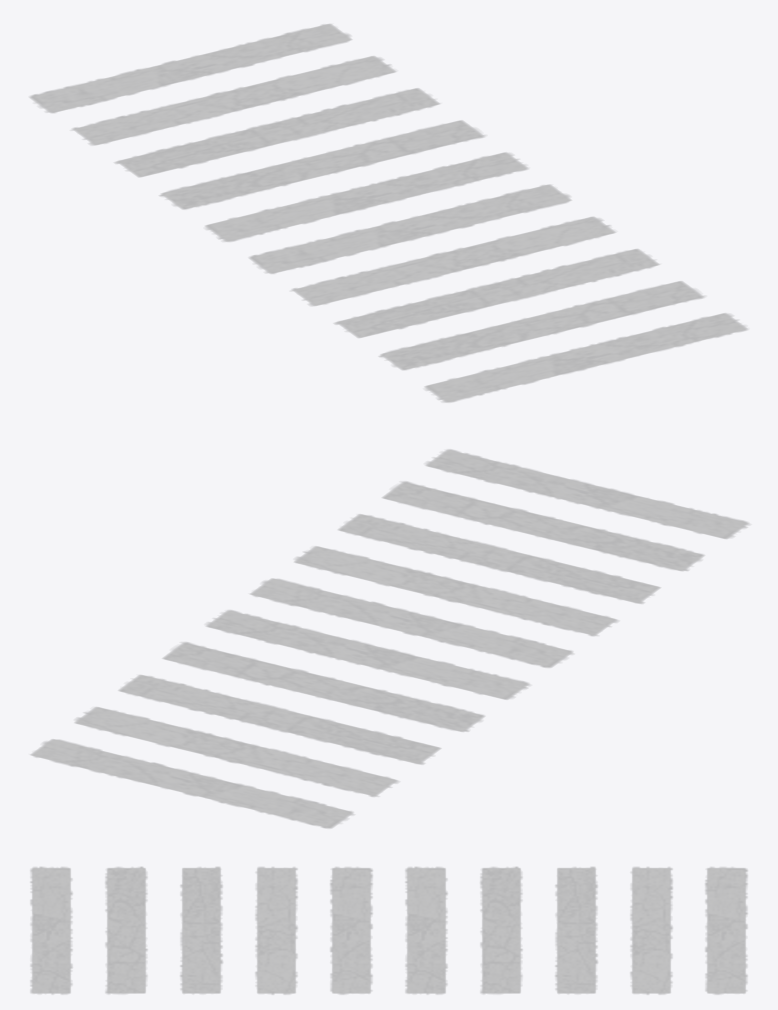
Rendered from decal_crosswalk_wide.glb.
The picture shows the model from 3 angles, top to bottom: view 1: azimuth 30°, elevation 25°; view 2: azimuth 150°, elevation 25°; view 3: azimuth 270°, elevation 25°; orthographic projection. The views are drawn at different scales.
Parts seen in each view (by area): view 1: Decal_Crosswalk_Wide; view 2: Decal_Crosswalk_Wide; view 3: Decal_Crosswalk_Wide.
Boxes of the visible parts, bbox=[...] form: Decal_Crosswalk_Wide: bbox=[30, 24, 747, 402]; Decal_Crosswalk_Wide: bbox=[31, 449, 748, 828]; Decal_Crosswalk_Wide: bbox=[30, 867, 747, 994].
Size of the model in its own units: 4.67 by 0 by 11.42.
Materials: 1 (1 with a texture image).
